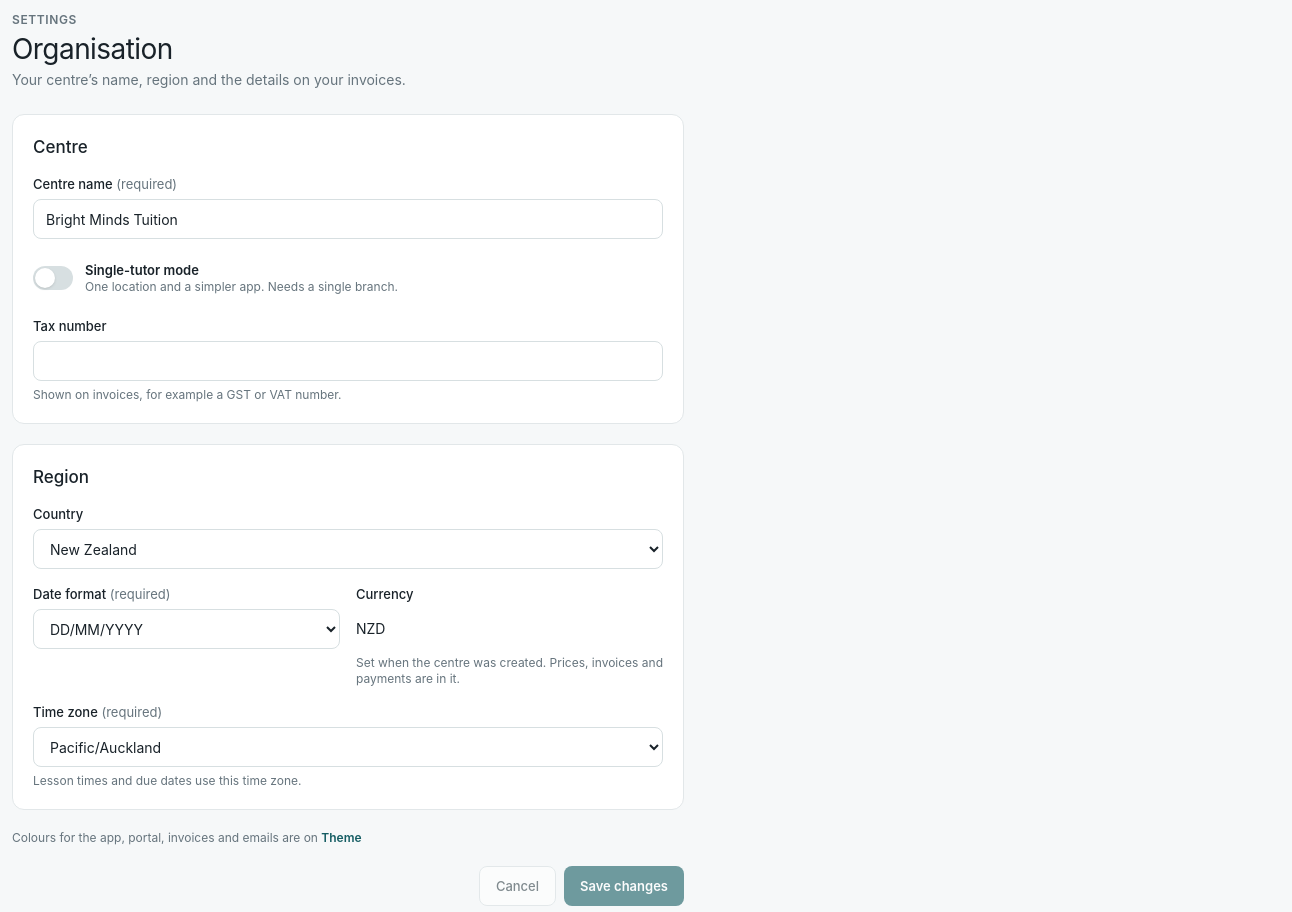
Scenario: organisation settings › saves only what changed, with the locale for a new country
Expected: the text "NZD" is shown, [356,620,386,637]
Expected: the button "Save changes" is disabled, [564,866,684,906]
Replace the text in the field labelled "Centre name (required)" with "Bright Minds Academy" at (348, 219), box [33,199,663,239]
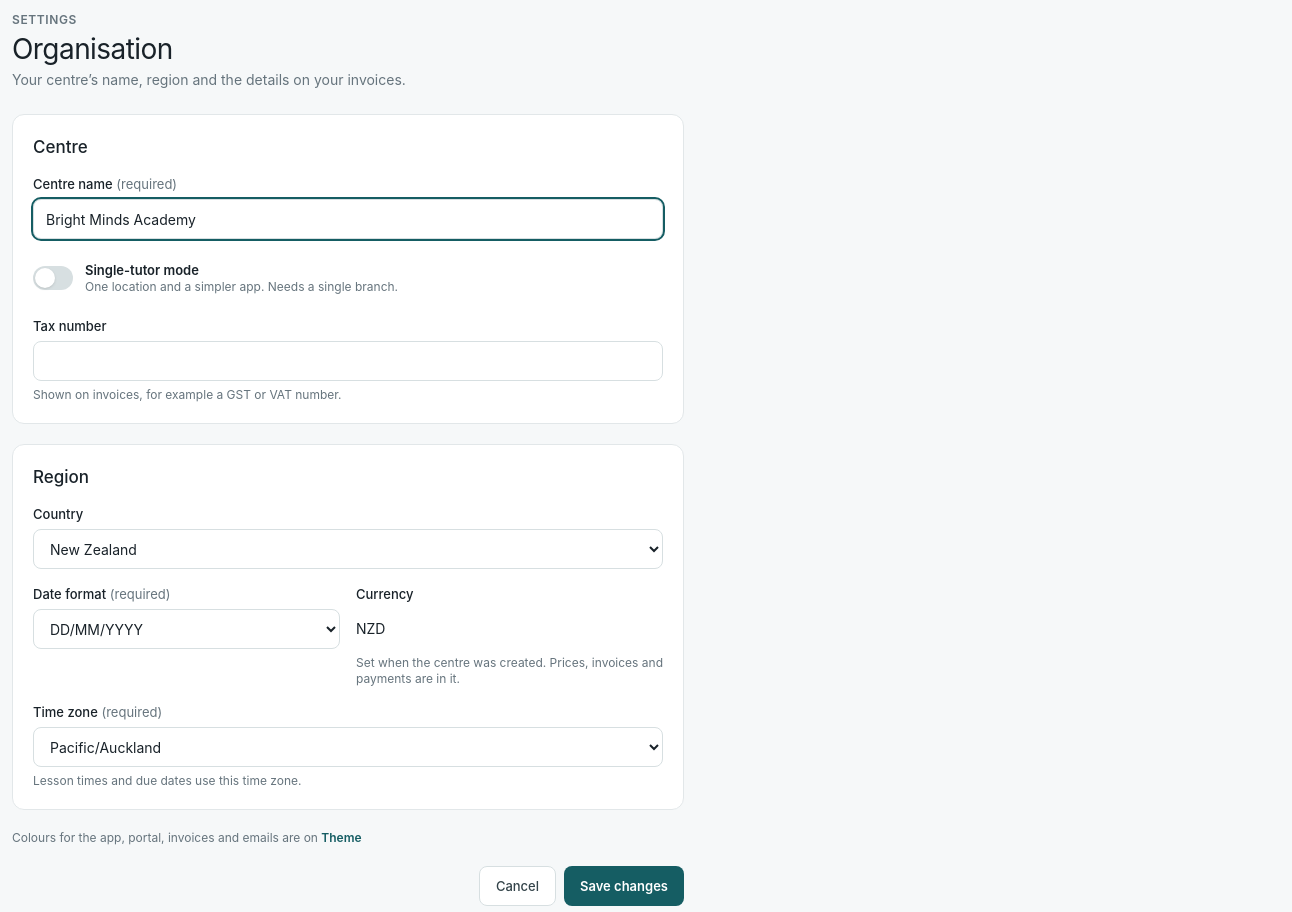
Select "AU" in the dropdown labelled "Country" at (348, 549), box [33,529,663,569]
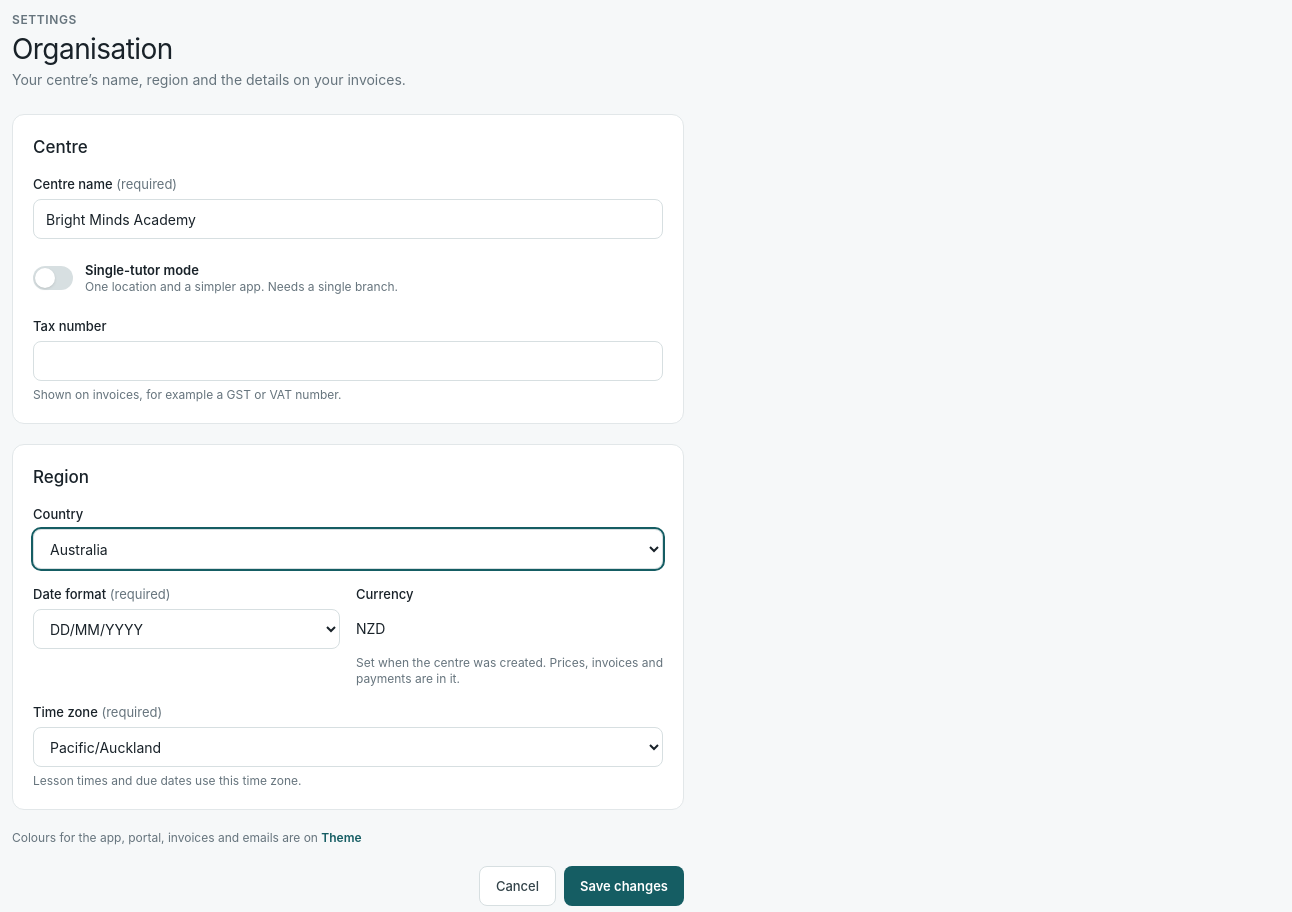
Type "51 824 753 556" into the field labelled "Tax number" at (348, 361), box [33,341,663,381]
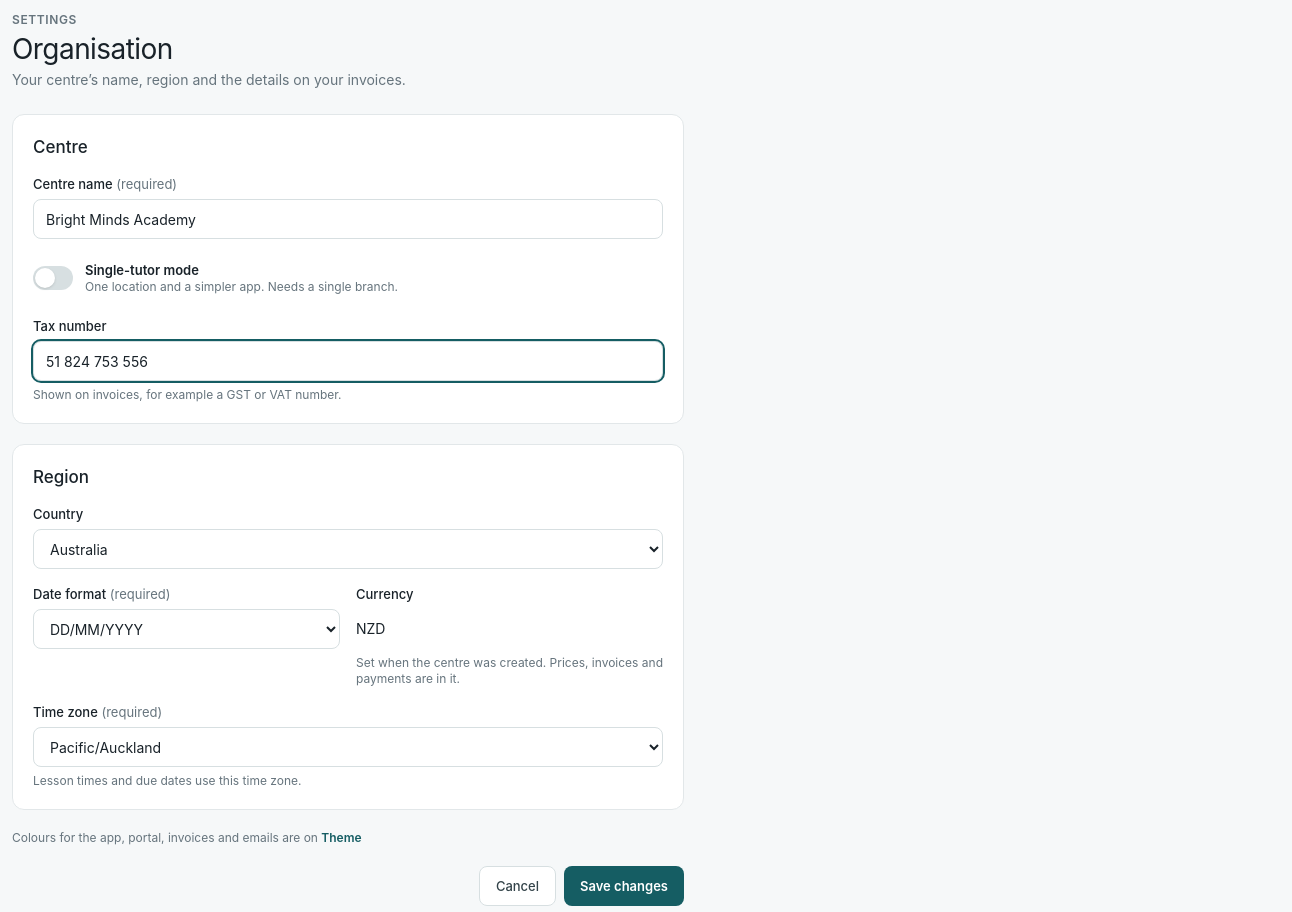
Click the button "Save changes" at (624, 886), box [564,866,684,906]
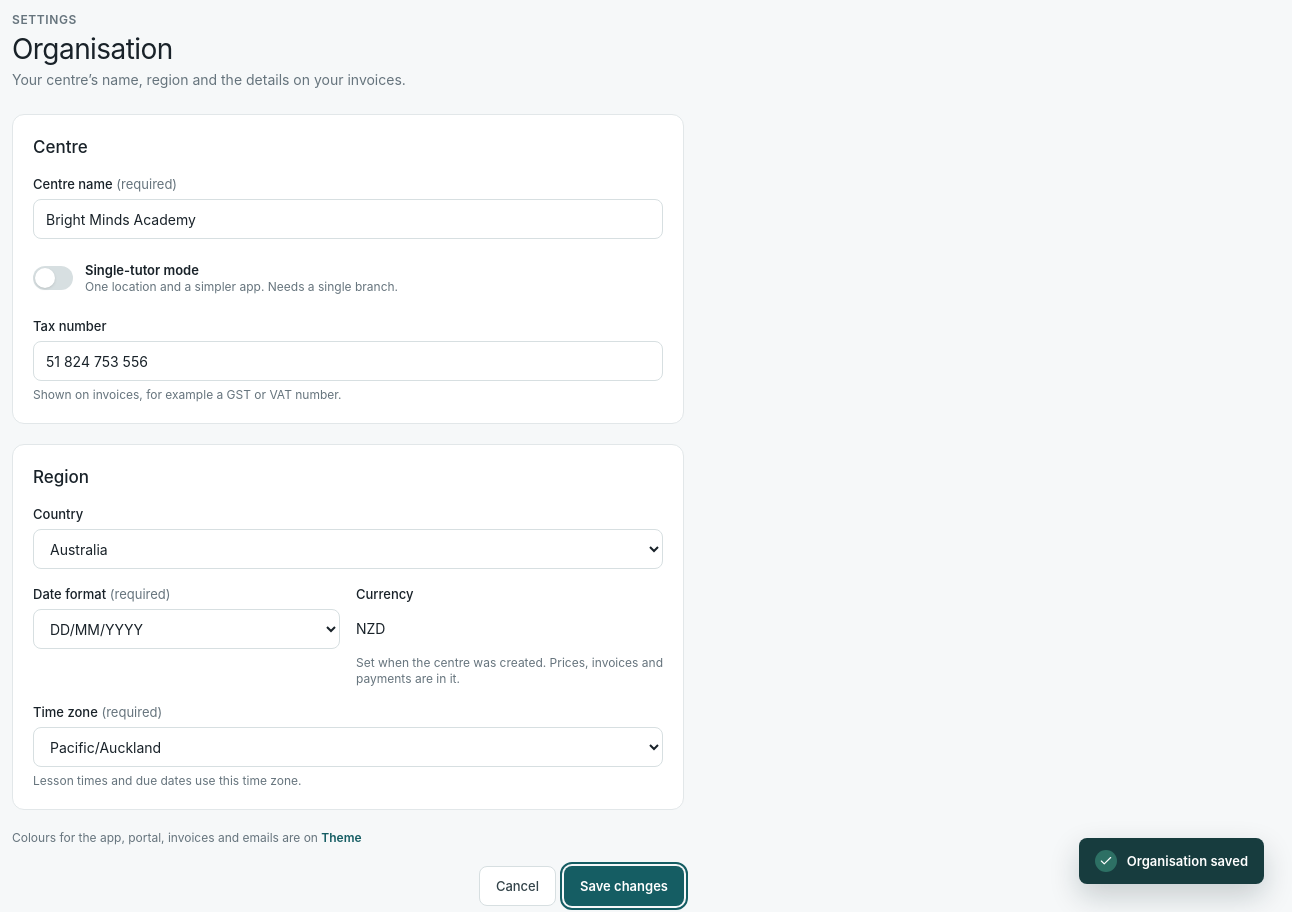
Result: the text "Organisation saved" is shown at [1079,838,1264,884]
